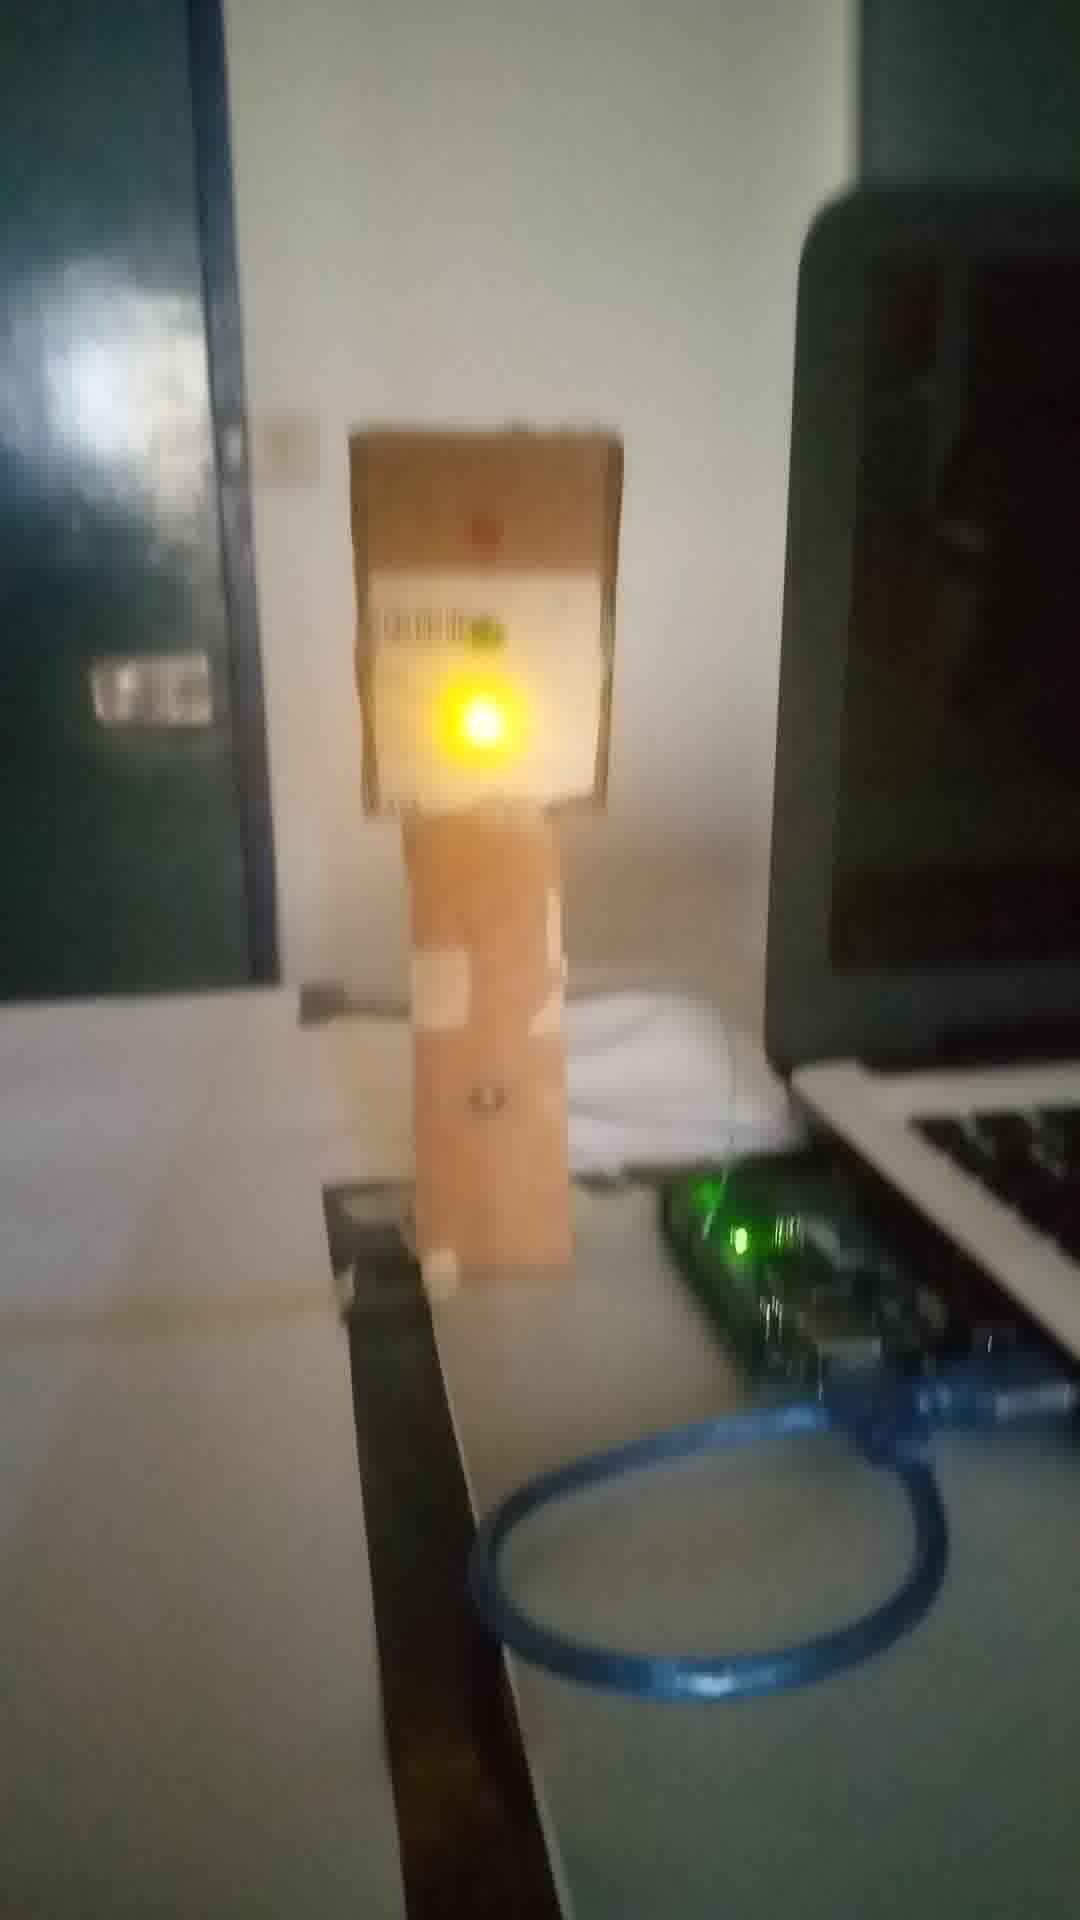green: (344, 434, 624, 794)
